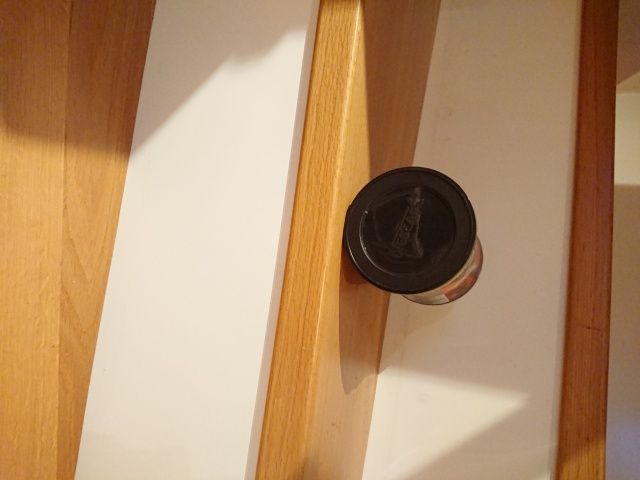Nescafe Classic 225g: (340, 163, 487, 309)
